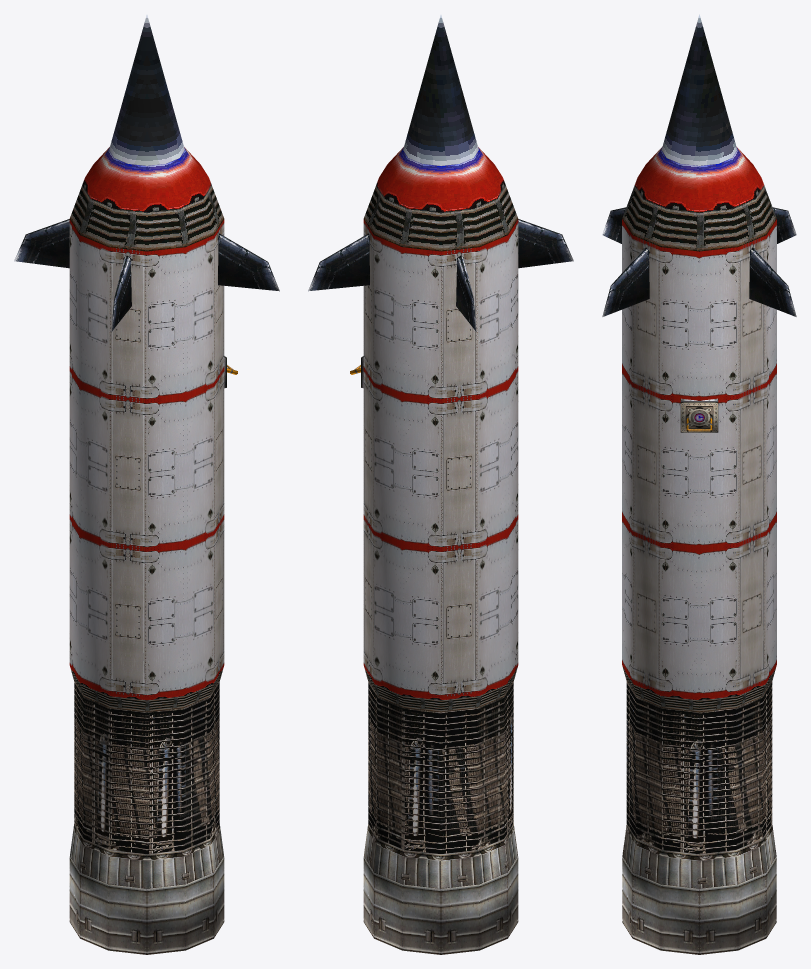
Rendered from Missle.obj.
The picture shows the model from 3 angles, left to right: view 1: azimuth 30°, elevation 25°; view 2: azimuth 150°, elevation 25°; view 3: azimuth 270°, elevation 25°; orthographic projection.
Size of the model in its own units: 177 by 907 by 176.
10 materials, 10 textured.
